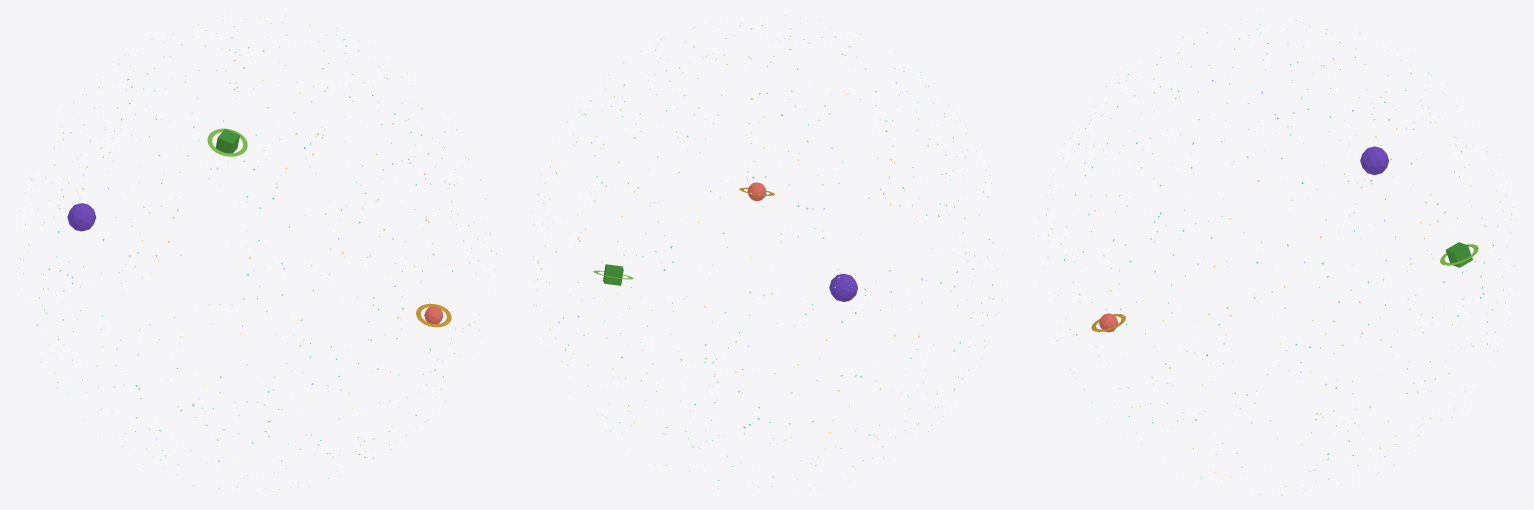
Rendered from ceu_nave.glb.
The picture shows the model from 3 angles, left to right: view 1: azimuth 30°, elevation 25°; view 2: azimuth 150°, elevation 25°; view 3: azimuth 270°, elevation 25°; orthographic projection.
Parts seen in each view (by area): view 1: planetas, estrelas; view 2: estrelas, planetas; view 3: estrelas, planetas.
Boxes of the visible parts, x1=… form: planetas: x1=67, y1=128, x2=451, y2=327; estrelas: x1=18, y1=16, x2=496, y2=494; estrelas: x1=529, y1=14, x2=1006, y2=495; planetas: x1=593, y1=182, x2=857, y2=301; estrelas: x1=1038, y1=15, x2=1514, y2=495; planetas: x1=1091, y1=146, x2=1478, y2=332.
Bounding box in the file's own units: 399 × 400 × 400.
